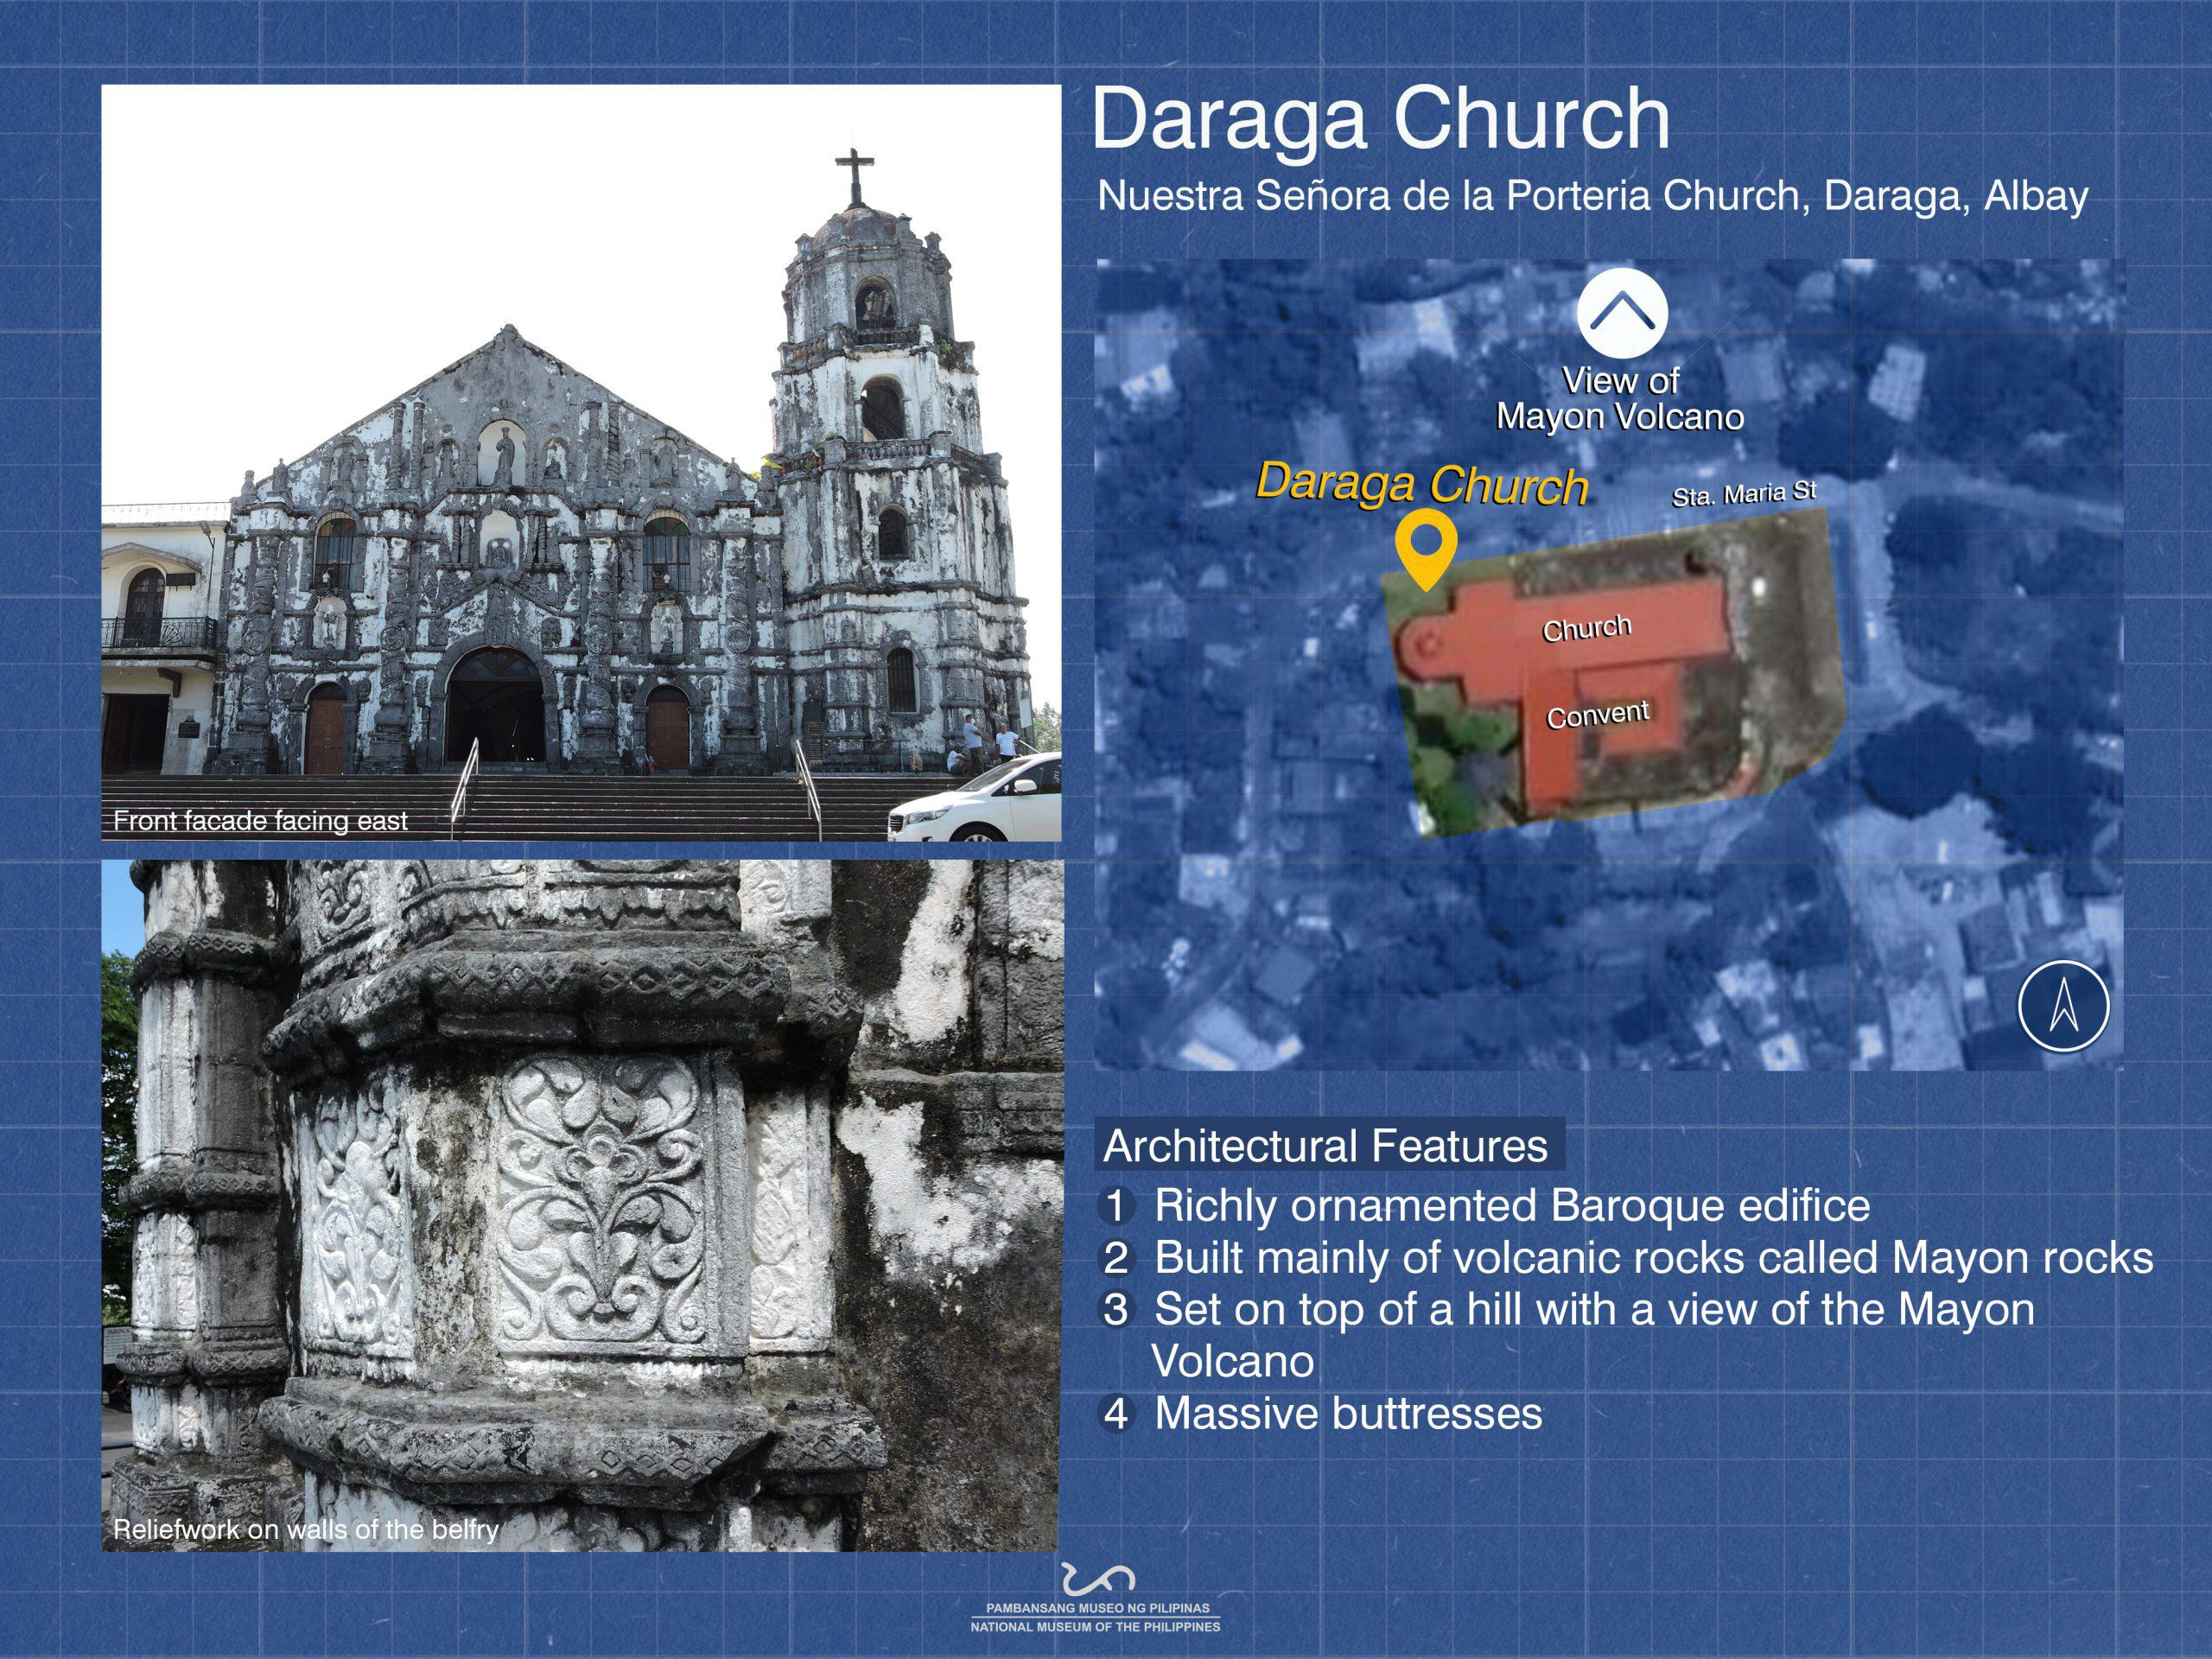daraga_church_daraga_albay: (214, 136, 1040, 774)
